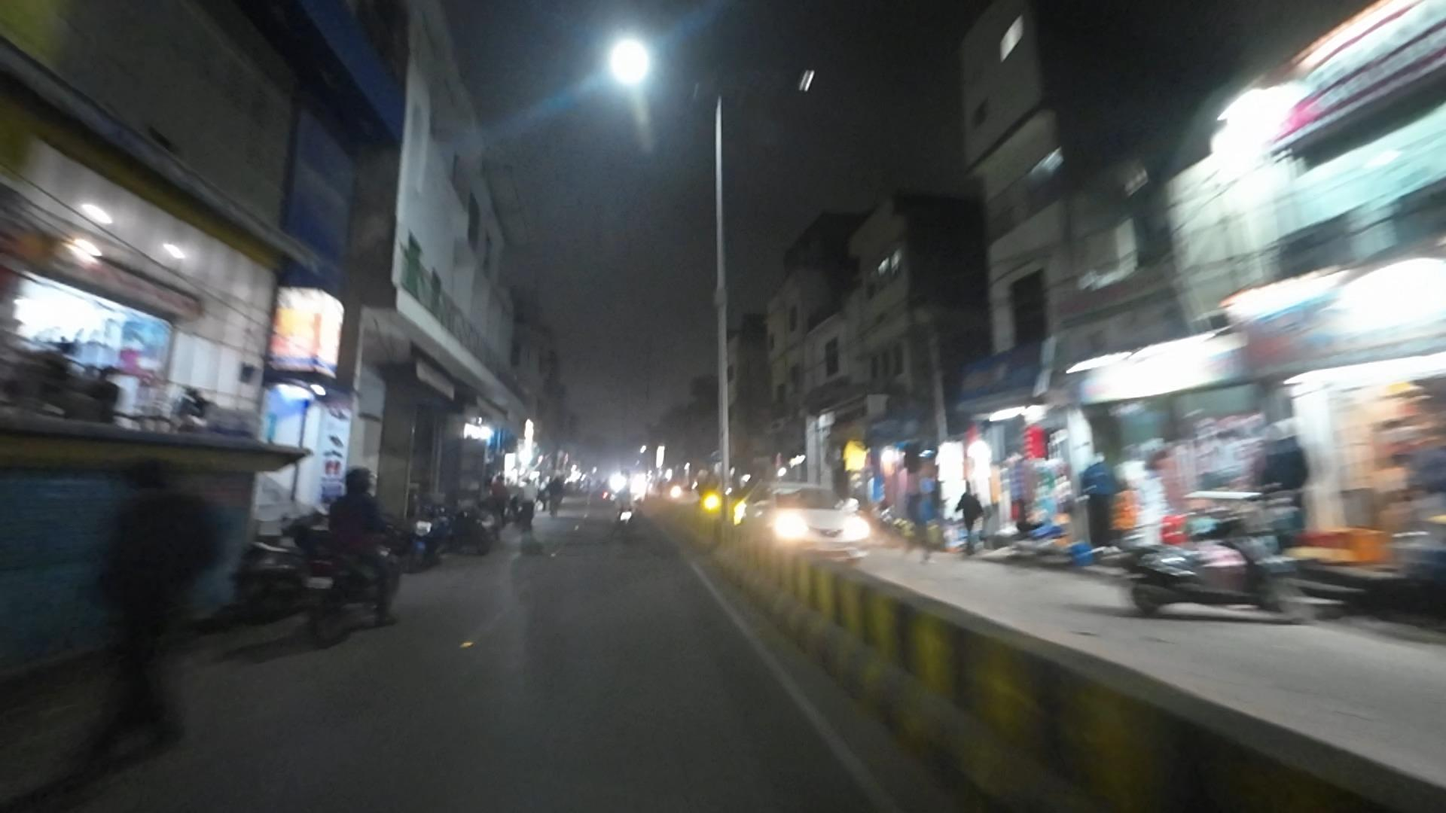streetlight: (729, 64, 833, 104)
